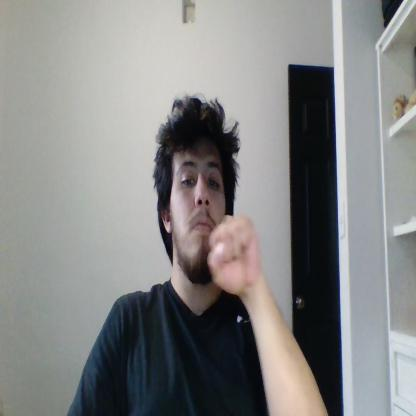S: (208, 215, 262, 293)
